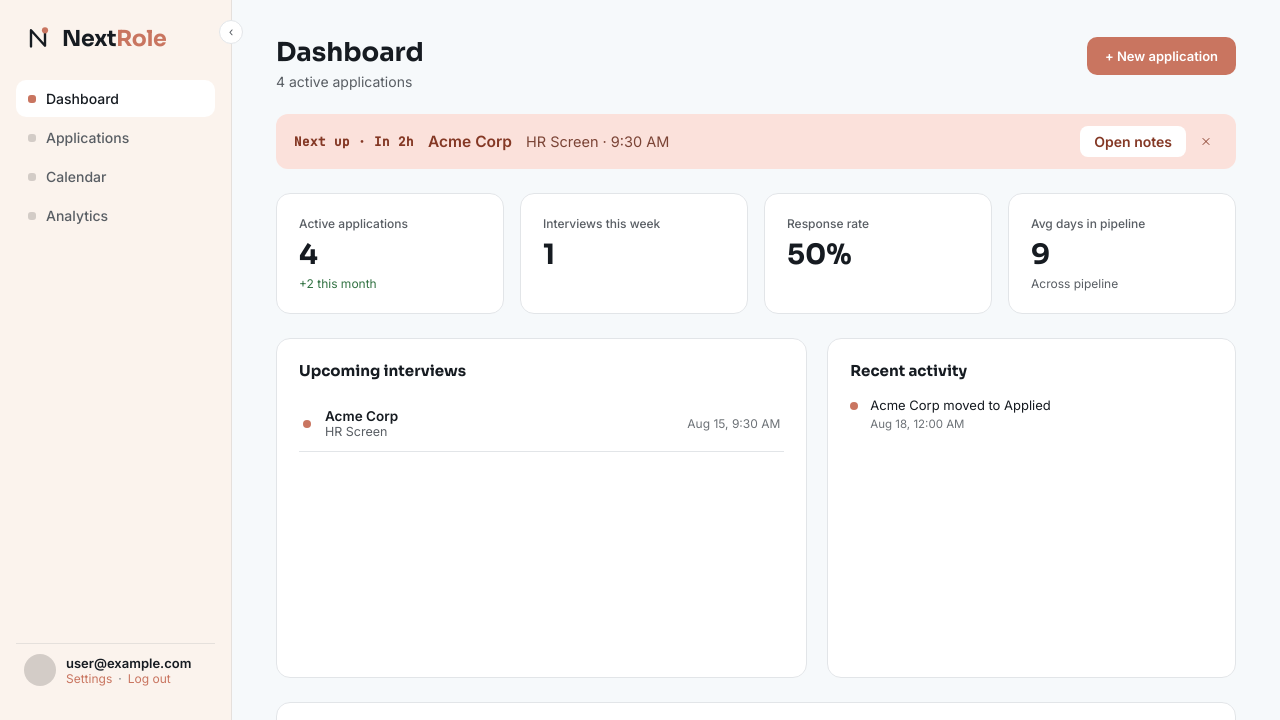
Test: DashboardPage › shows the first-time reminder prompt when clicking Dismiss before the user has been asked
The width and height of the screenshot is (1280, 720).
Expected: the text "Next up" is shown, [294, 133, 350, 150]
Expected: the text "Interview reminders" is not shown
Step 1. Click the button named "Dismiss" → [1206, 142], box [1194, 130, 1218, 154]
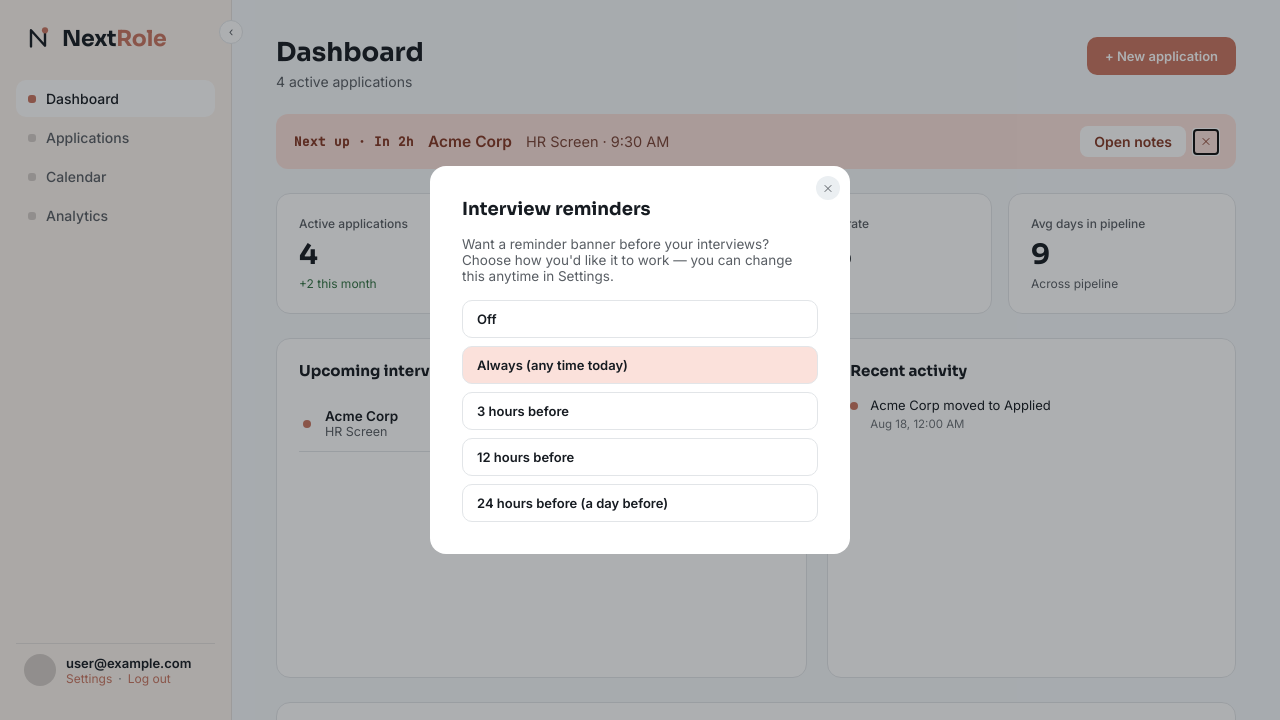
Now the heading "Interview reminders" is shown, box [462, 198, 651, 220]
Step 2. Click the button "3 hours before" → [523, 411], box [462, 392, 818, 430]
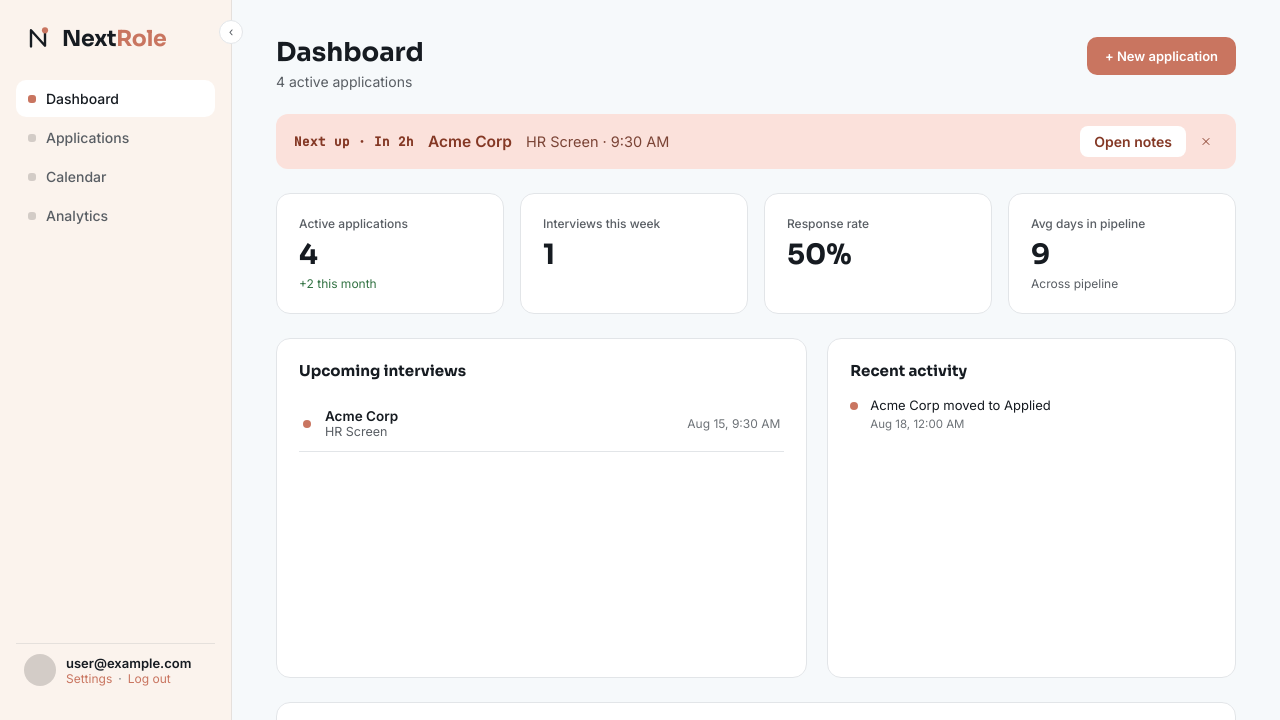
Now the heading "Interview reminders" is gone
